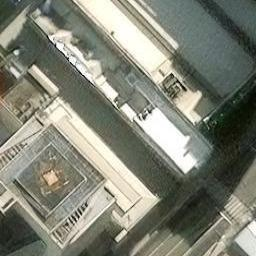heliponto: (14, 143, 86, 214)
